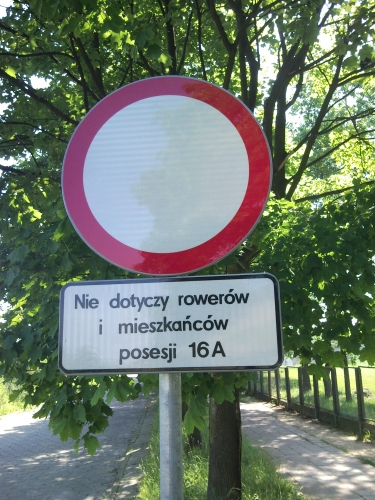no_entry_sign: (60, 76, 273, 277)
